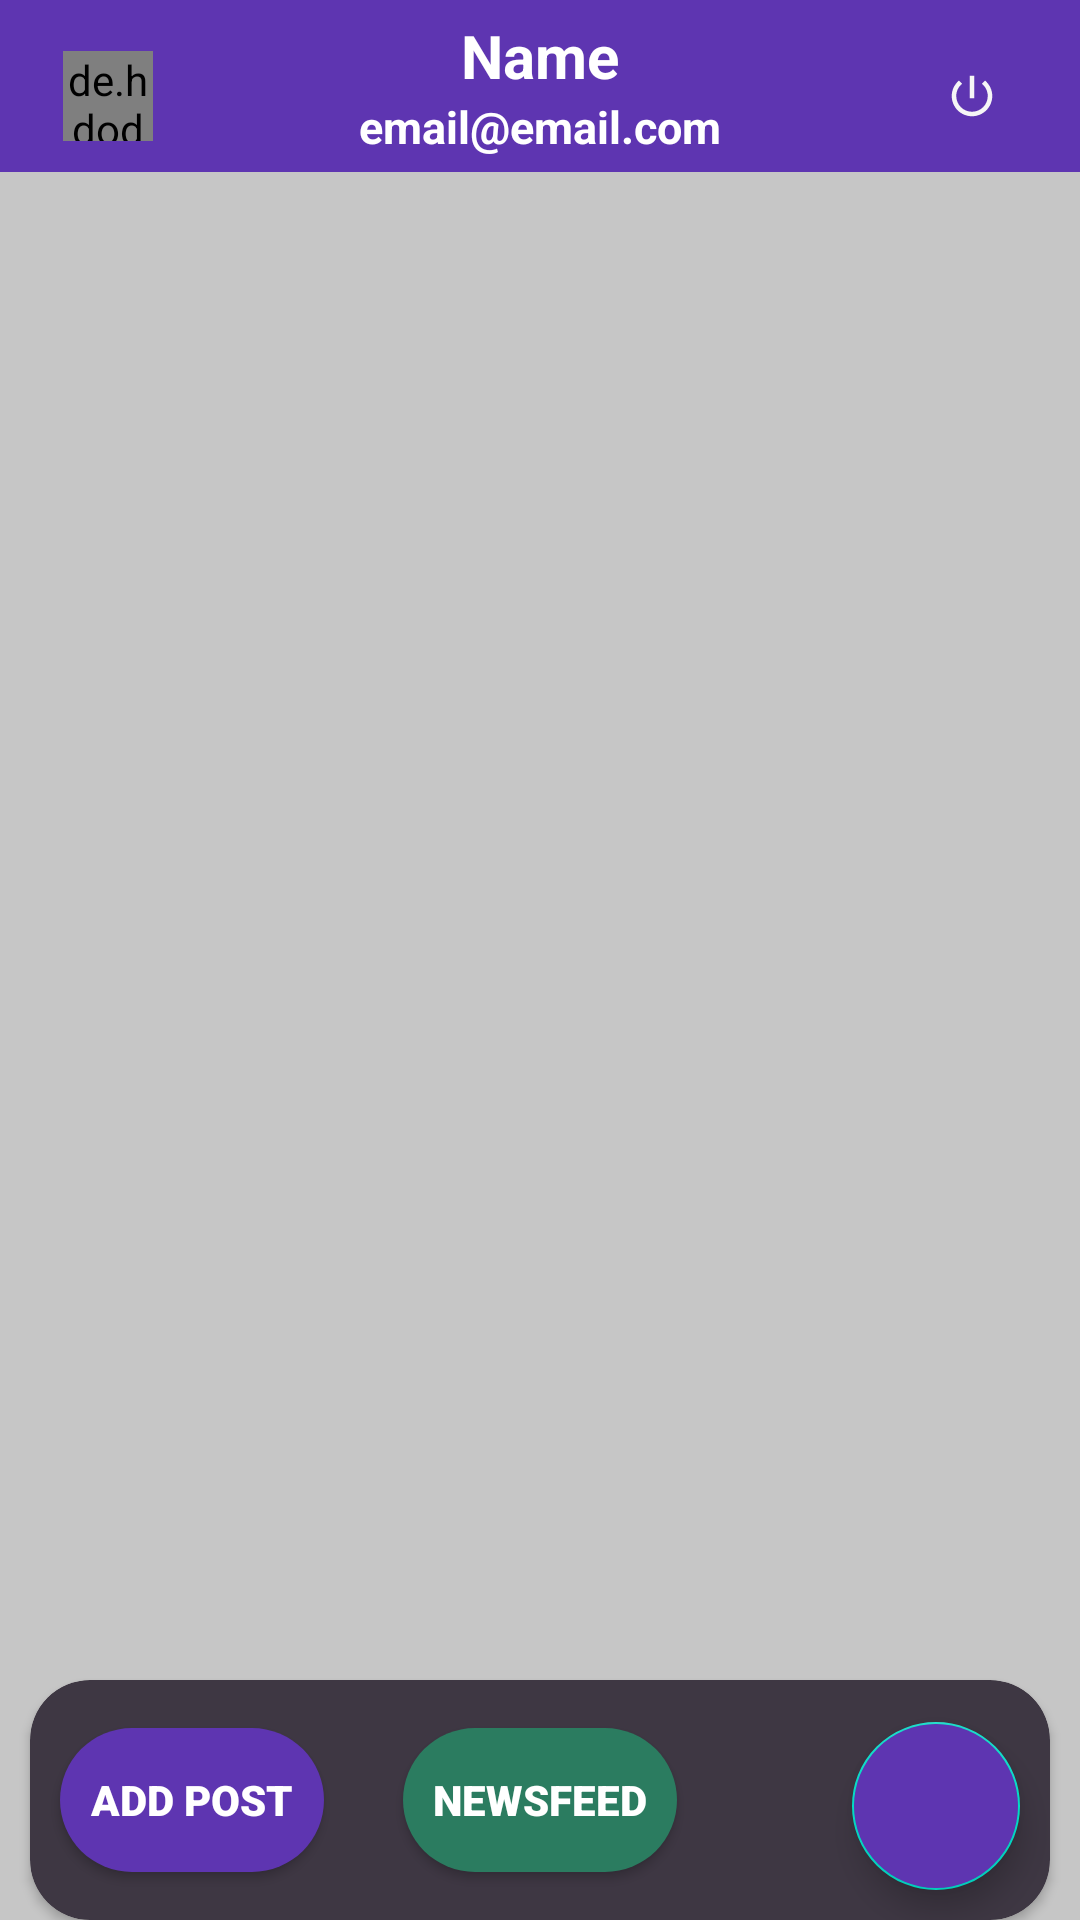

Icons on this 1080px×1920px Android screen, each with the point to tap as (x,y):
power settings: (972,96)
